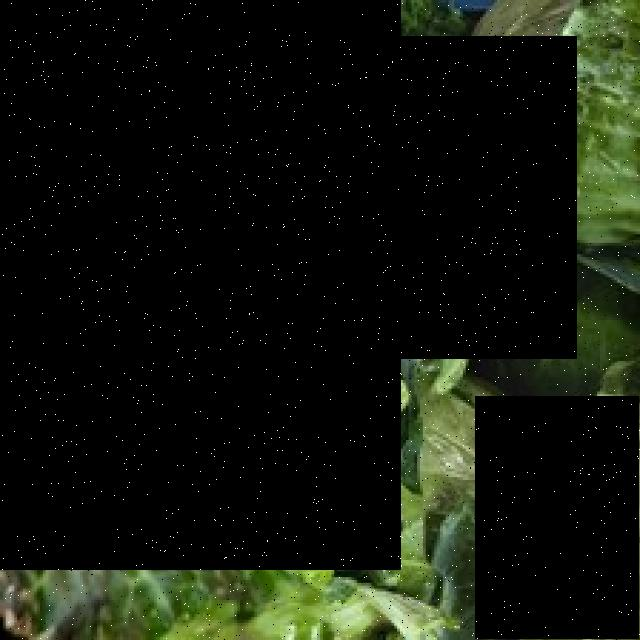Cabbage: (0, 0, 401, 570), (302, 37, 578, 360), (475, 396, 640, 640)
